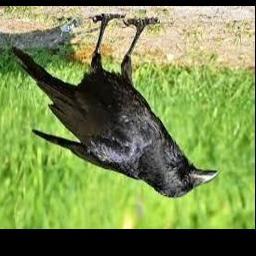Crow: (12, 13, 222, 199)
